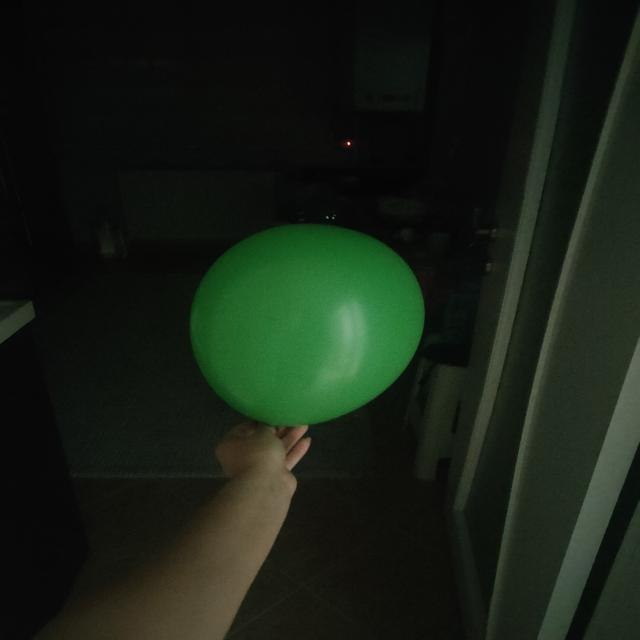green: (191, 226, 424, 427)
